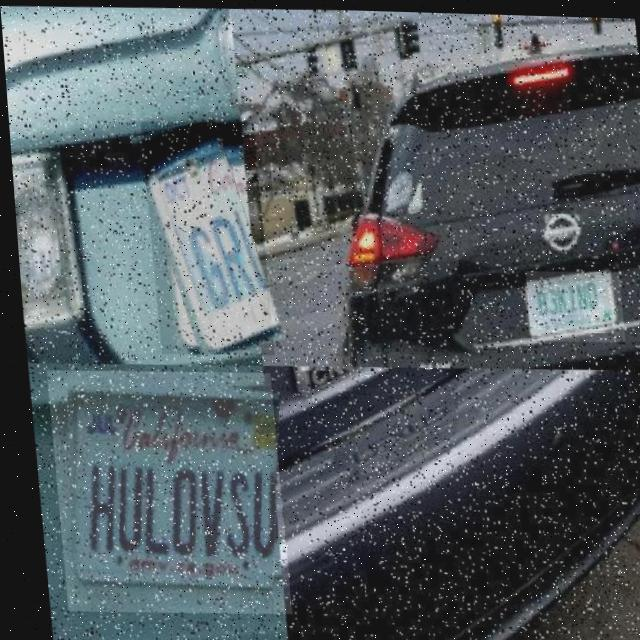LicensePlate: (41, 366, 283, 616), (138, 119, 269, 355), (522, 269, 619, 338)
